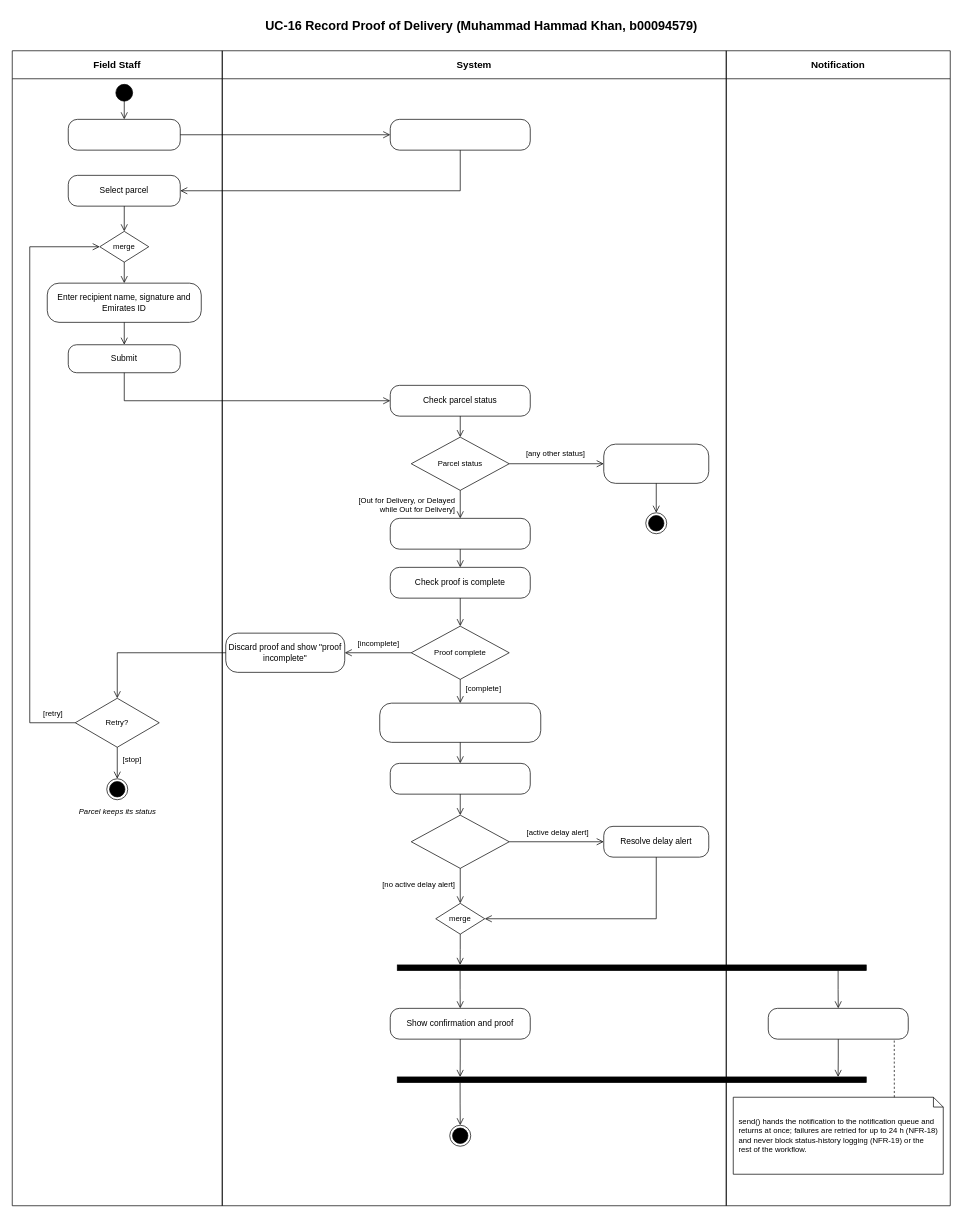
Some shapes in this 963 by 1218 pixel diagram are drawn without their labels. The shapes that lost their labels are listed below. From the top down, each one's centre as x and y in pixels, then its label:
[124,134]: Request assigned parcels
[460,134]: Show assigned parcels
[656,463]: Show "parcel is not out for delivery"
[460,533]: Create proof of delivery
[460,722]: Set status to Delivered (updateDeliveryStatus, UC-14)
[460,778]: Record status history entry
[460,841]: Active delay alert
[838,1023]: Send Delivered notification
